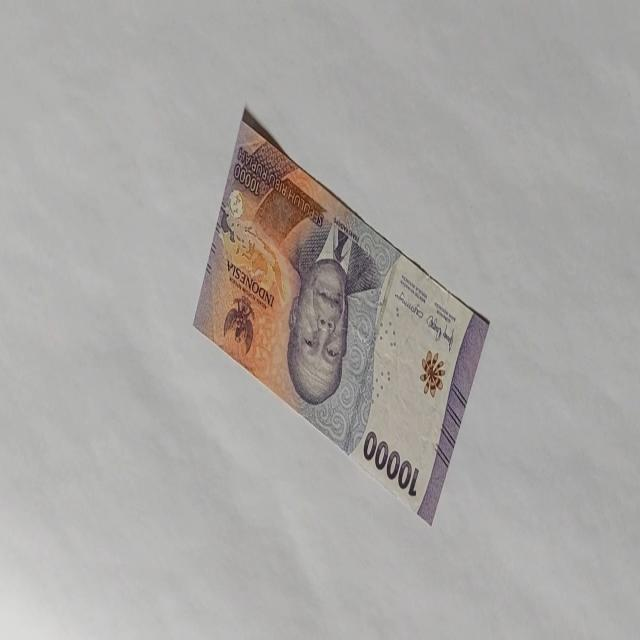sepuluh ribu rupiah: (192, 106, 490, 528), (362, 428, 420, 498)
